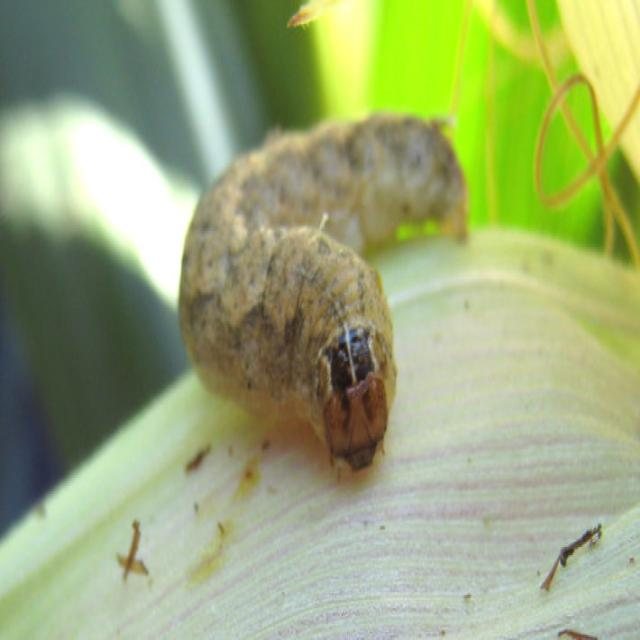Corn-earworm: (179, 104, 472, 484)
